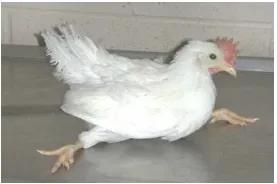AbNormal: (36, 19, 262, 174)
